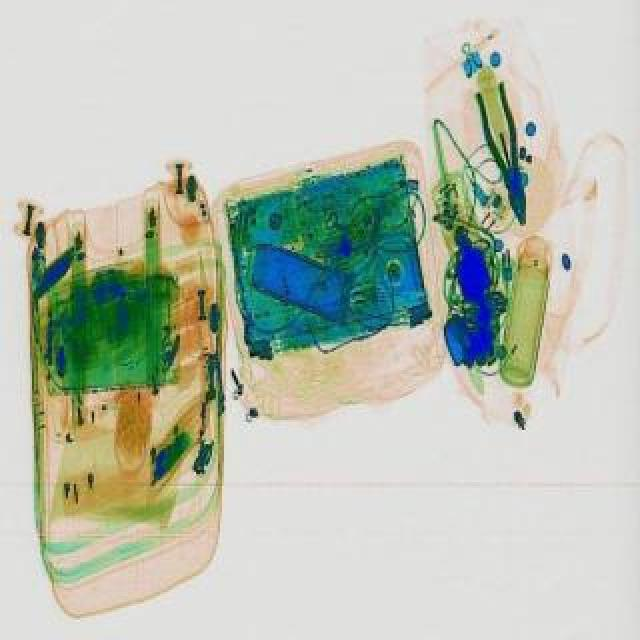wrench: (474, 86, 542, 230)
